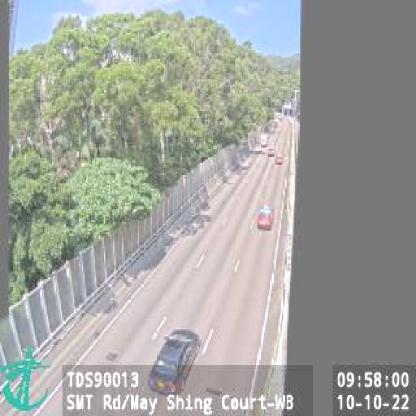Car: (149, 327, 198, 396), (257, 204, 272, 228), (276, 153, 284, 166)
